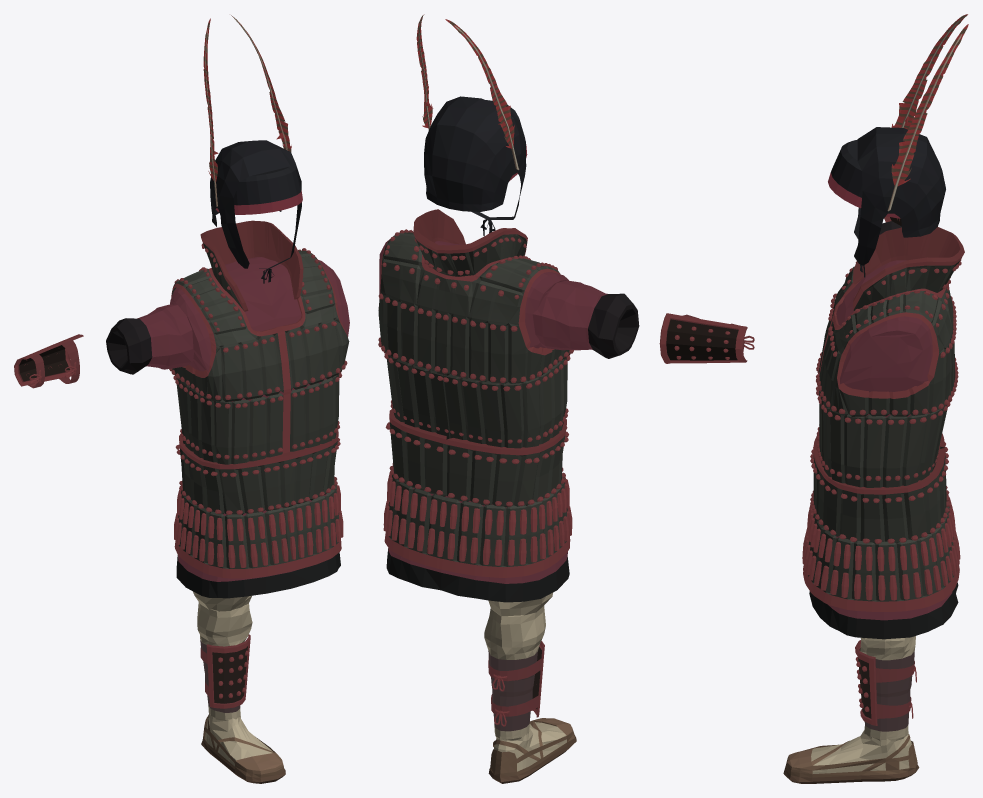
File: hanDynastyWarrior.glb
The picture shows the model from 3 angles, left to right: view 1: azimuth 30°, elevation 25°; view 2: azimuth 150°, elevation 25°; view 3: azimuth 270°, elevation 25°; orthographic projection. The views are drawn at different scales.
Visible parts, largest first — view 1: hanDynastyWarriorBody, hanDynastyWarriorHatFeathered, hanDynastyWarriorLowerLeg, hanDynastyWarriorUpperArm, hanDynastyWarriorFoot, hanDynastyWrist, hanDynastyWarriorUpperLeg; view 2: hanDynastyWarriorBody, hanDynastyWarriorHatFeathered, hanDynastyWarriorLowerLeg, hanDynastyWarriorUpperArm, hanDynastyWrist, hanDynastyWarriorFoot, hanDynastyWarriorUpperLeg; view 3: hanDynastyWarriorBody, hanDynastyWarriorHatFeathered, hanDynastyWarriorLowerLeg, hanDynastyWarriorFoot.
Part boxes in pixels (x1,y1,x2,y2): hanDynastyWarriorBody: (169, 220, 349, 598); hanDynastyWarriorHatFeathered: (203, 15, 302, 283); hanDynastyWarriorLowerLeg: (197, 602, 252, 720); hanDynastyWarriorUpperArm: (106, 304, 193, 374); hanDynastyWarriorFoot: (201, 713, 285, 783); hanDynastyWrist: (14, 334, 83, 388); hanDynastyWarriorUpperLeg: (193, 591, 251, 611); hanDynastyWarriorBody: (378, 209, 573, 602); hanDynastyWarriorHatFeathered: (416, 14, 527, 236); hanDynastyWarriorLowerLeg: (484, 606, 545, 740); hanDynastyWarriorUpperArm: (532, 280, 639, 358); hanDynastyWrist: (659, 313, 754, 363); hanDynastyWarriorFoot: (488, 718, 576, 783); hanDynastyWarriorUpperLeg: (488, 592, 553, 616); hanDynastyWarriorBody: (802, 227, 964, 639); hanDynastyWarriorHatFeathered: (828, 14, 968, 277); hanDynastyWarriorLowerLeg: (855, 636, 916, 741); hanDynastyWarriorFoot: (783, 730, 919, 783).
Size of the model in its own units: 1.12 by 2.36 by 0.5127.
